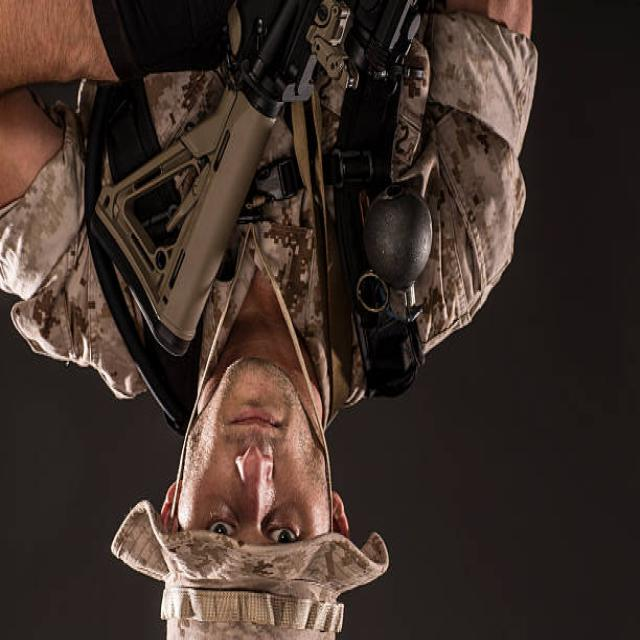grenade: (355, 176, 443, 330)
